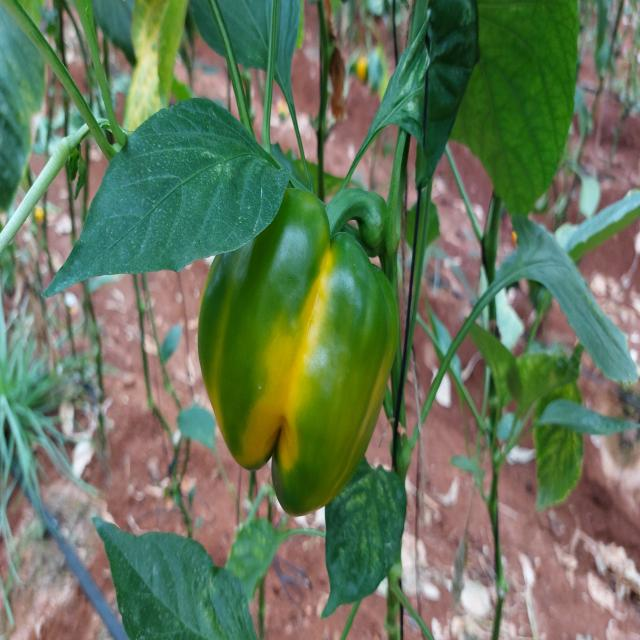GreenishYellow--Can-be-Harvested: (188, 140, 433, 531)
